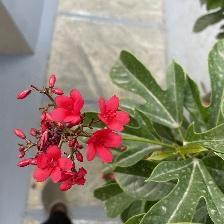jatropha: (83, 125, 127, 166)
